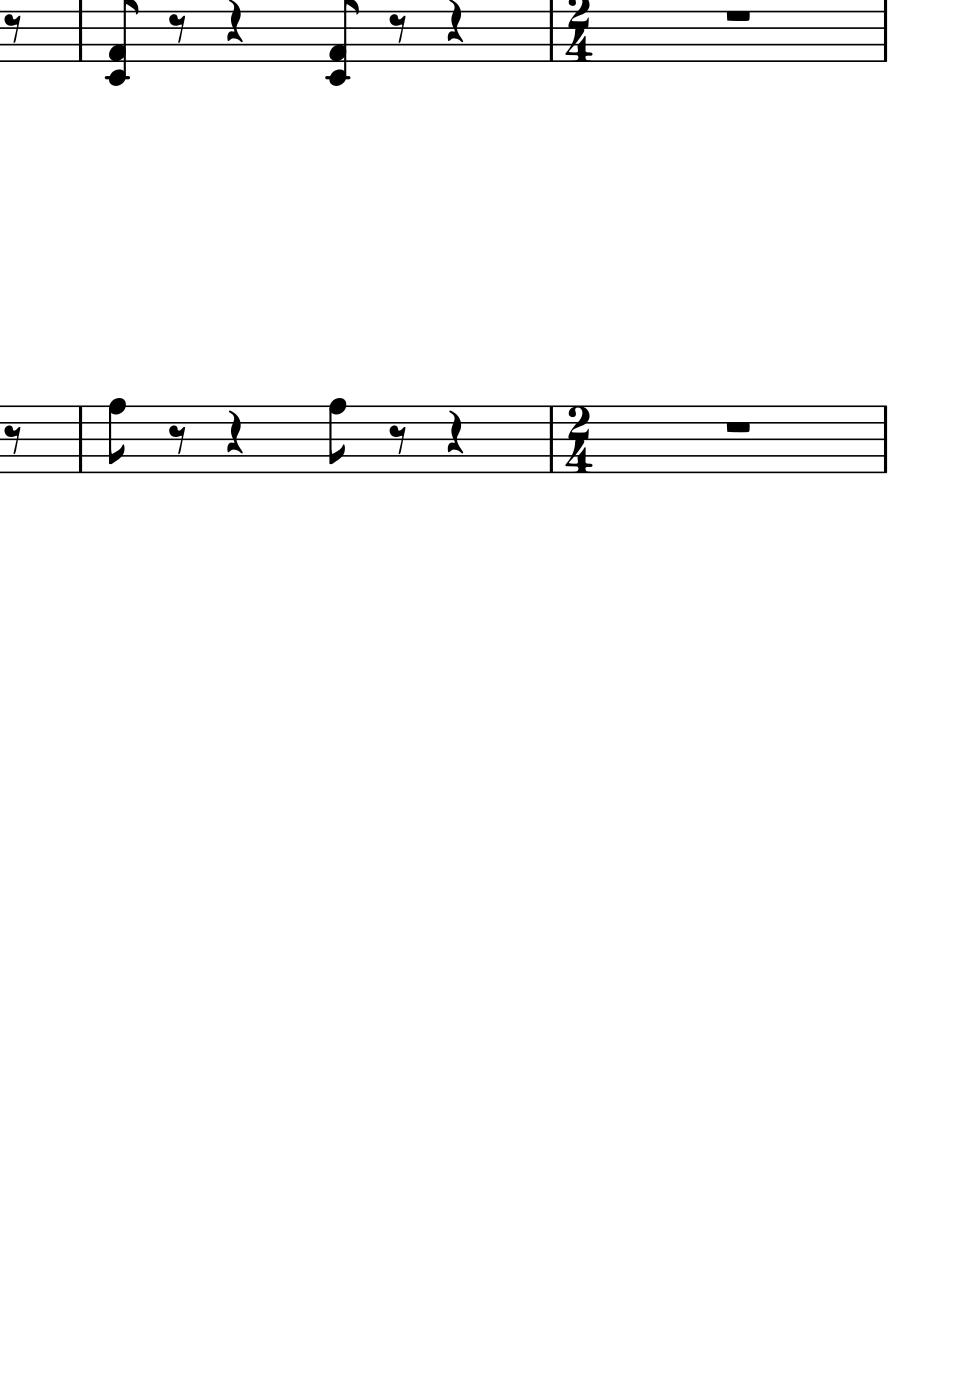2: (566, 404, 593, 440), (565, 1, 593, 28)
4: (564, 29, 594, 62), (564, 440, 594, 473)
8_8: (105, 397, 128, 475), (325, 397, 348, 475)
Rests1: (721, 416, 755, 436), (722, 6, 754, 24)
Rests4: (443, 1, 466, 47), (222, 1, 245, 45), (443, 408, 465, 456), (223, 408, 244, 455)
Rests8: (386, 12, 409, 47), (2, 423, 25, 456), (167, 12, 189, 46), (2, 12, 24, 45), (167, 423, 189, 456), (387, 423, 409, 456)
Single_barline: (876, 406, 893, 473), (544, 406, 560, 473), (72, 406, 88, 472), (876, 1, 893, 62), (72, 1, 88, 62), (543, 1, 559, 62)
TimeSig: (564, 405, 593, 475), (563, 1, 594, 63)
